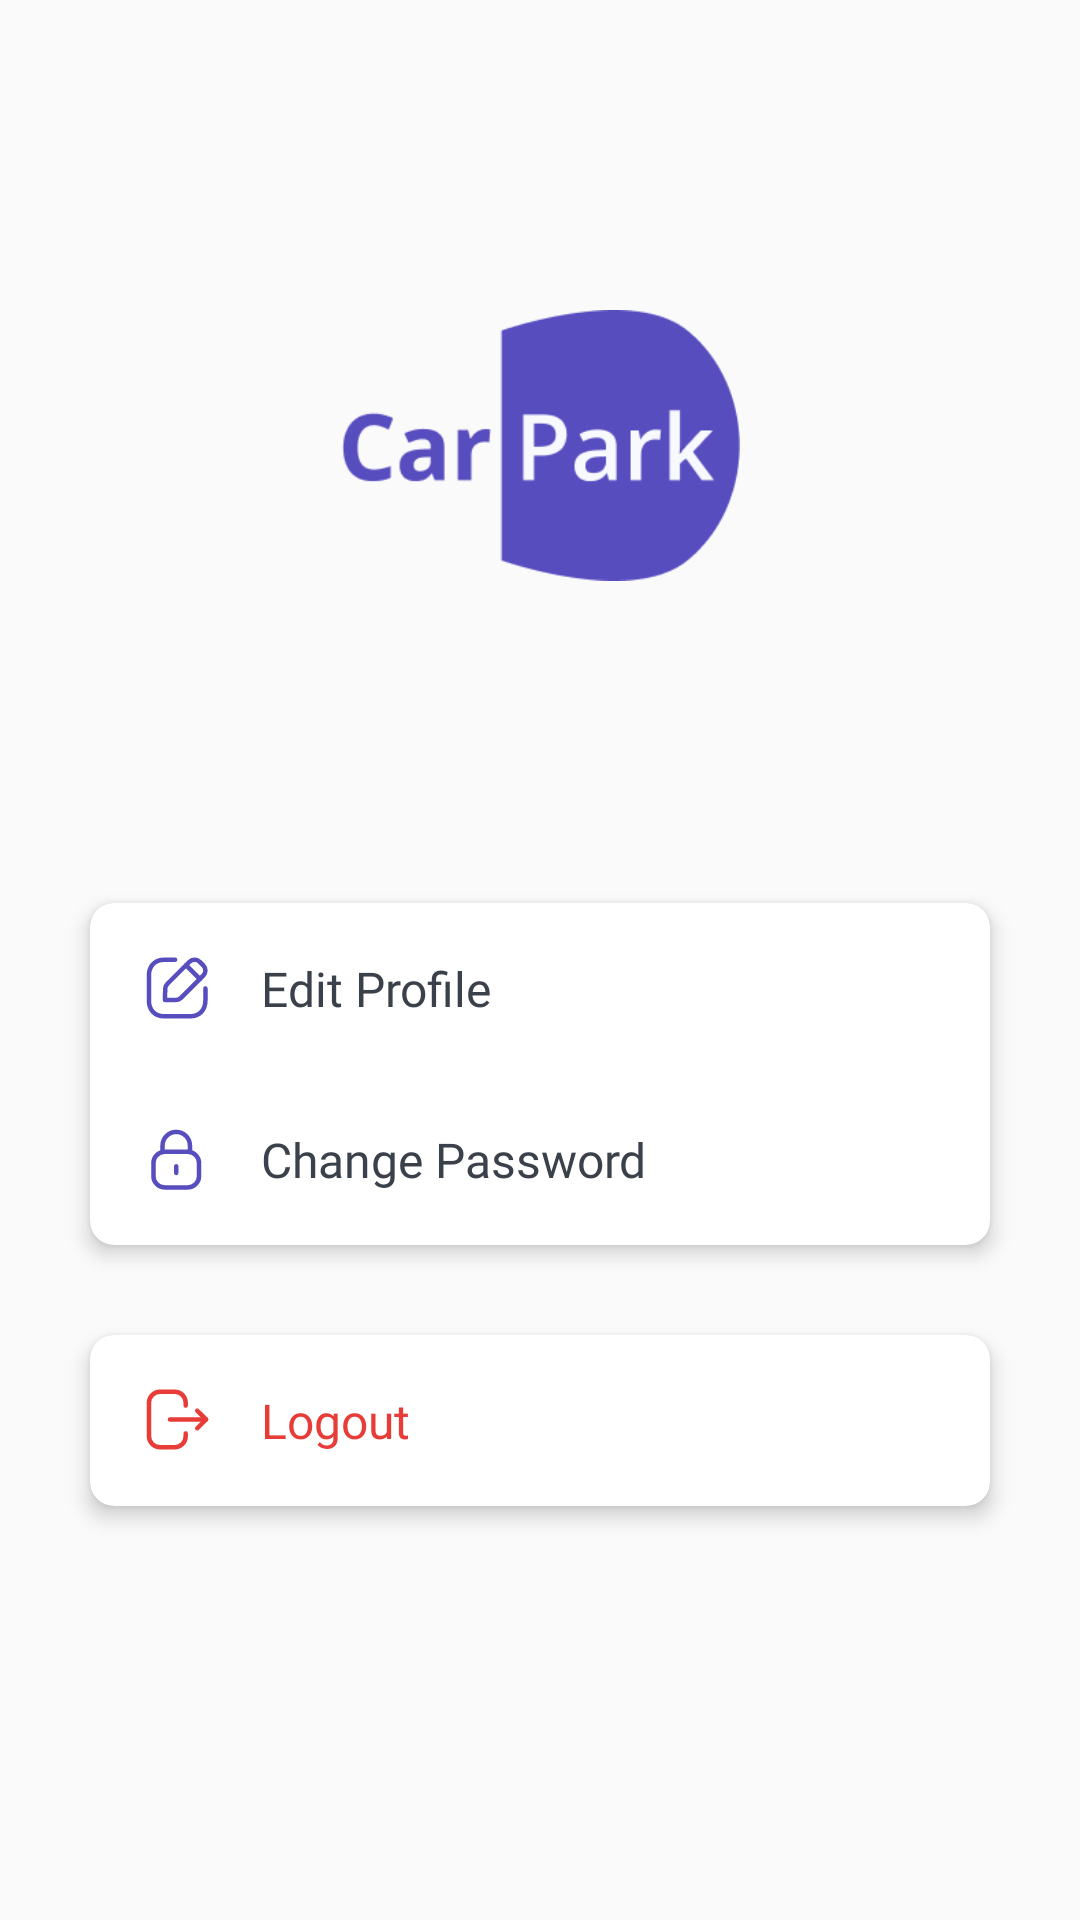

Named icons in this screenshot (1080×1920) and their bounding boxes, (x1, y1, x2, y2):
edit square: (146, 957, 208, 1019)
lock: (151, 1129, 202, 1190)
